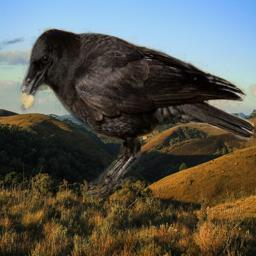Crow: (17, 26, 254, 199)
